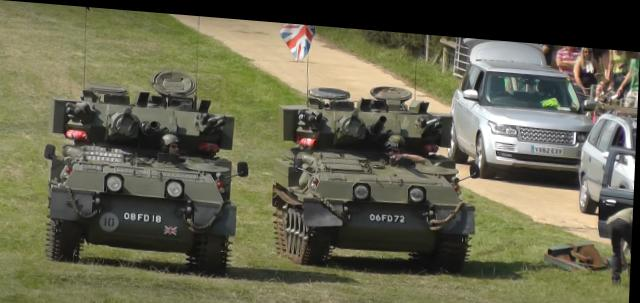tank: (48, 79, 235, 268), (281, 85, 475, 265)
